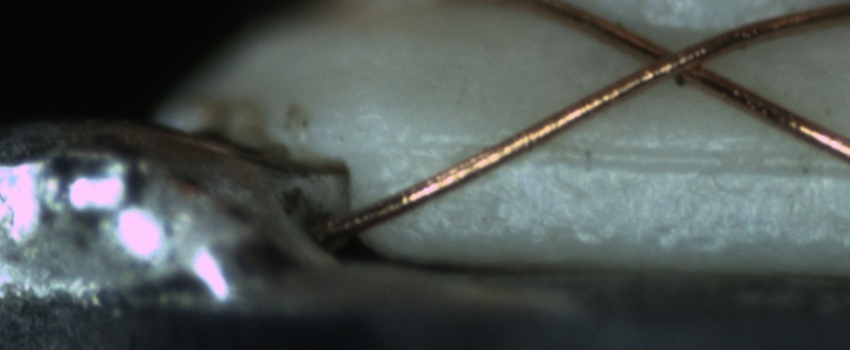CL: (623, 30, 724, 90)
DL: (406, 133, 850, 189)
